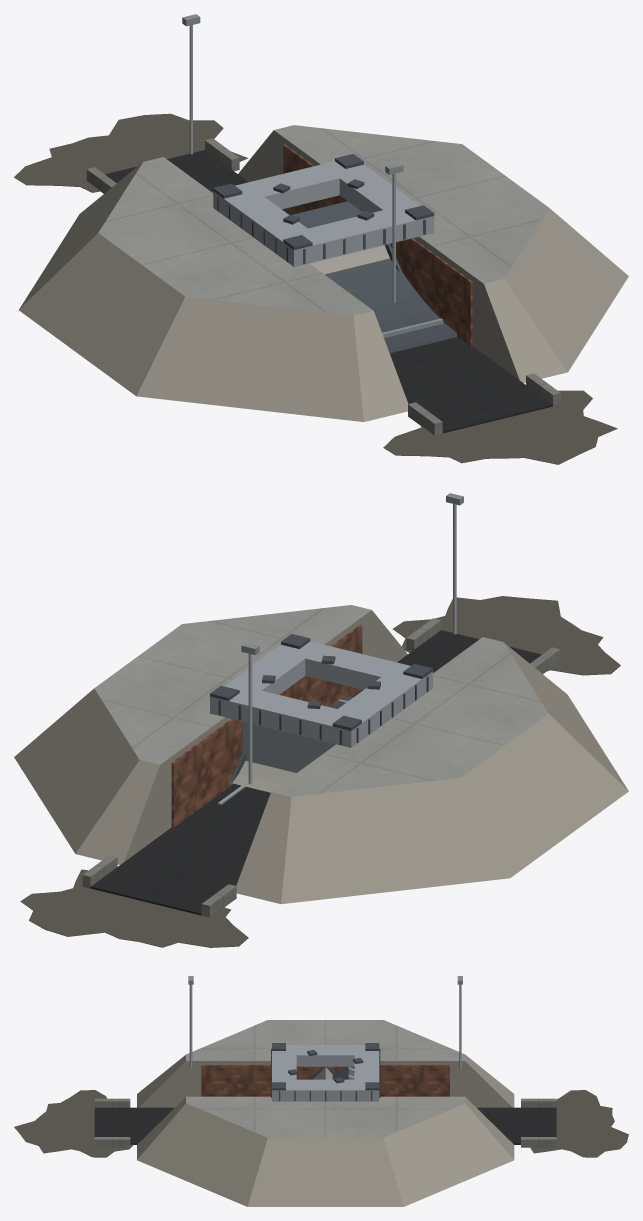
The model's file is trench.glb.
3 renders of one model, top to bottom at view 1: azimuth 30°, elevation 25°; view 2: azimuth 150°, elevation 25°; view 3: azimuth 270°, elevation 25°, orthographic. The views are drawn at different scales.
Parts seen in each view (by area): view 1: hardstand, table, deflector_ramp, trench, deflector_wedge; view 2: hardstand, table, deflector_ramp, trench, deflector_wedge; view 3: hardstand, table, trench.
Part boxes in pixels (x1,y1,x2,y2): hardstand: [14, 113, 628, 464]; table: [213, 154, 434, 266]; deflector_ramp: [292, 201, 457, 353]; trench: [182, 14, 403, 302]; deflector_wedge: [309, 244, 402, 274]; hardstand: [14, 596, 628, 947]; table: [210, 634, 432, 747]; deflector_ramp: [242, 696, 353, 772]; trench: [241, 493, 463, 784]; deflector_wedge: [218, 752, 296, 804]; hardstand: [14, 1020, 628, 1206]; table: [271, 1043, 380, 1101]; trench: [188, 976, 462, 1069].
Size of the model in its own units: 21.25 by 8.63 by 34.61.
10 materials, 4 textured.
